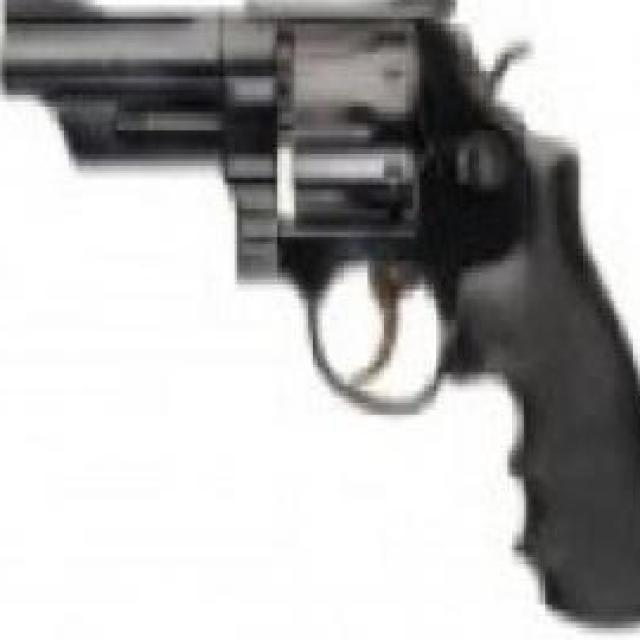pistol: (2, 0, 640, 628)
